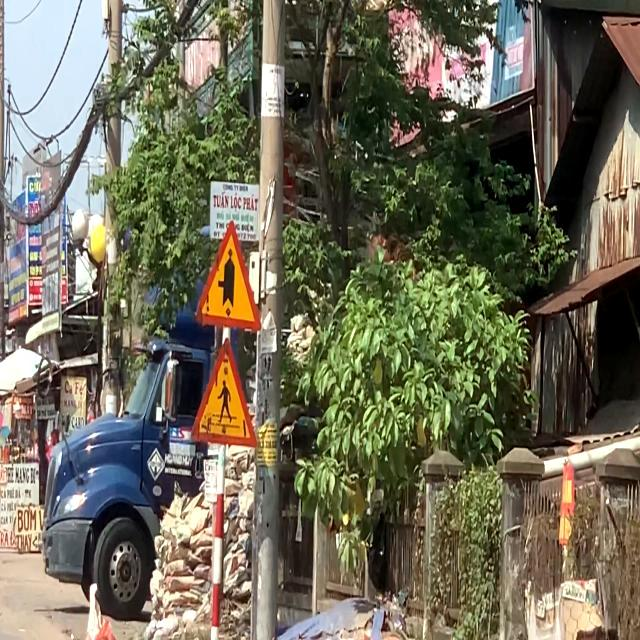Giao nhau voi duong khong uu tien ben trai: (194, 219, 263, 332)
Nguoi di bo cat ngang: (188, 337, 258, 449)
